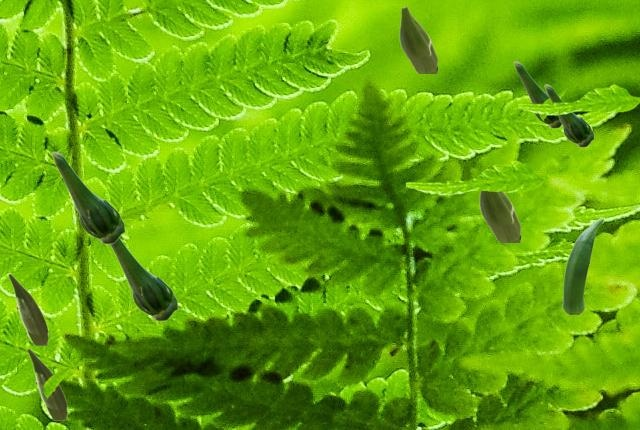okra: (51, 151, 124, 243), (109, 238, 177, 320), (562, 217, 603, 313), (513, 61, 561, 127), (544, 84, 593, 146), (479, 171, 519, 241), (8, 273, 47, 344), (27, 348, 66, 419), (399, 6, 436, 72)
